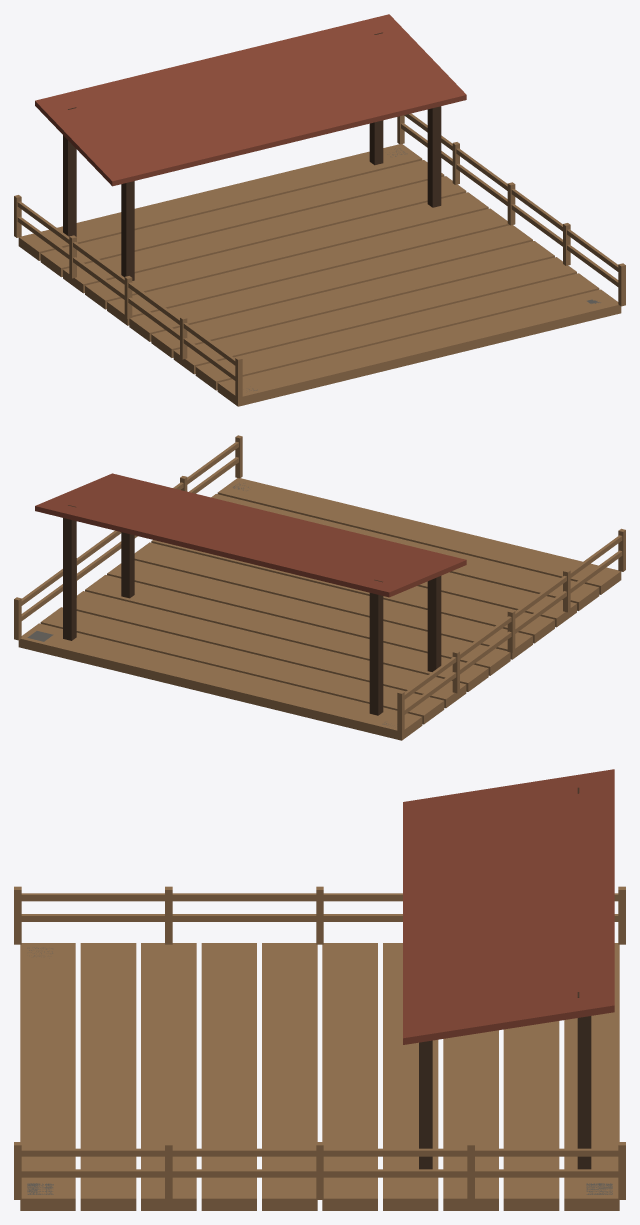
The model's file is stockpile.glb.
The picture shows the model from 3 angles, top to bottom: view 1: azimuth 30°, elevation 25°; view 2: azimuth 150°, elevation 25°; view 3: azimuth 270°, elevation 25°; orthographic projection. The views are drawn at different scales.
Visible parts, largest first — view 1: stockpile_lod0; view 2: stockpile_lod0; view 3: stockpile_lod0.
Boxes of the visible parts, left/top/right/bottom form: stockpile_lod0: left=14, top=14, right=625, bottom=406; stockpile_lod0: left=14, top=435, right=625, bottom=740; stockpile_lod0: left=14, top=769, right=625, bottom=1210.
Size of what is drawn, in the model's own units: 8.1 by 2.88 by 8.1.
